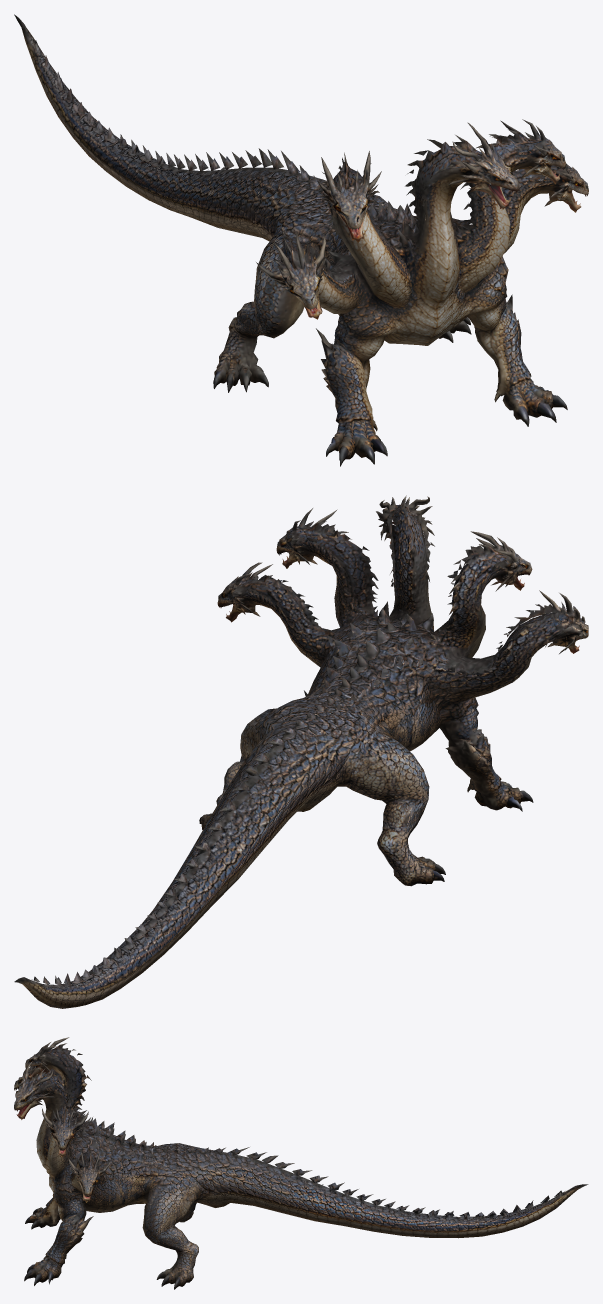
File: hydra dragon 3d model.glb
3 views of the same model, one above another, from view 1: azimuth 30°, elevation 25°; view 2: azimuth 150°, elevation 25°; view 3: azimuth 270°, elevation 25° (orthographic). The views are drawn at different scales.
Parts seen in each view (by area): view 1: tripo_89c64bbb_ab5f_468e_bb24_5c2a2ff965b5; view 2: tripo_89c64bbb_ab5f_468e_bb24_5c2a2ff965b5; view 3: tripo_89c64bbb_ab5f_468e_bb24_5c2a2ff965b5.
Part boxes in pixels (box(x1,y1,x2,y2)): tripo_89c64bbb_ab5f_468e_bb24_5c2a2ff965b5: box(14, 14, 588, 466); tripo_89c64bbb_ab5f_468e_bb24_5c2a2ff965b5: box(14, 495, 588, 1008); tripo_89c64bbb_ab5f_468e_bb24_5c2a2ff965b5: box(14, 1037, 588, 1289).
Bounding box in the file's own units: 0.4558 × 0.3659 × 1.
Materials: 1 (1 with a texture image).
